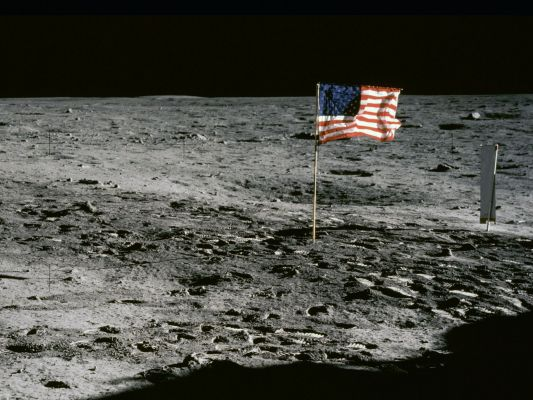Flag: (314, 79, 405, 149)
